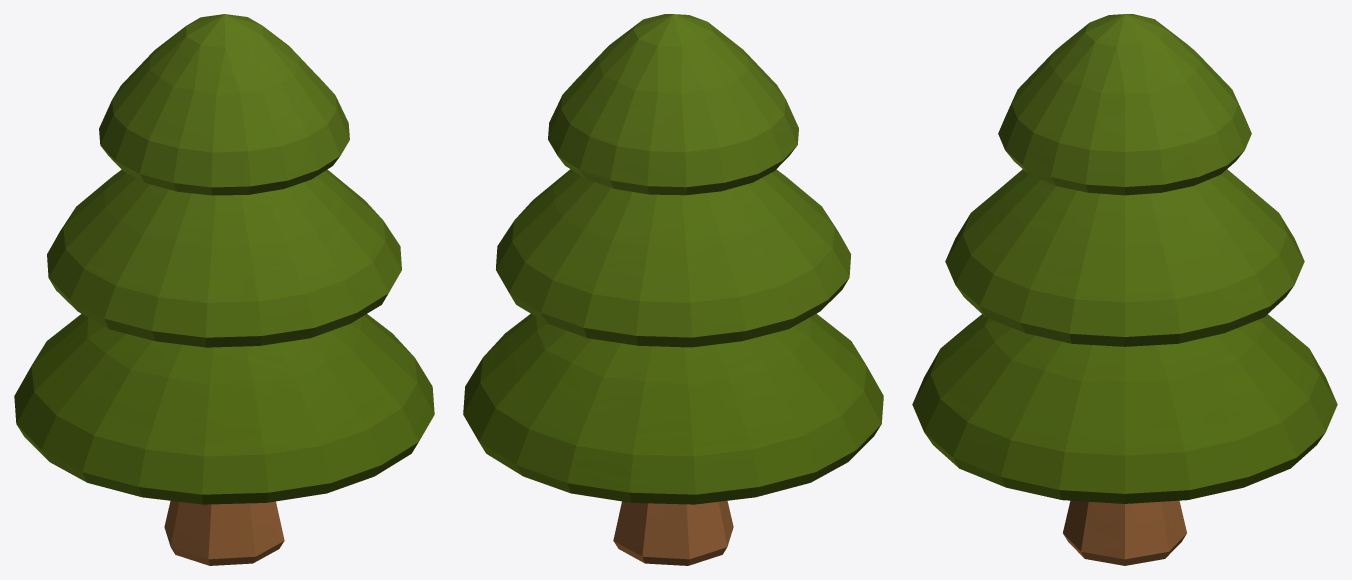
The model's file is spruce.01.glb.
The picture shows the model from 3 angles, left to right: view 1: azimuth 30°, elevation 25°; view 2: azimuth 150°, elevation 25°; view 3: azimuth 270°, elevation 25°; orthographic projection.
Visible parts, largest first — view 1: Circle.003; view 2: Circle.003; view 3: Circle.003.
Part boxes in pixels (x1,y1,x2,y2): Circle.003: (14, 14, 434, 565); Circle.003: (463, 14, 883, 565); Circle.003: (912, 14, 1337, 565).
Size of the model in its own units: 0.9208 by 1.27 by 0.9275.
Materials: 1 (1 with a texture image).
